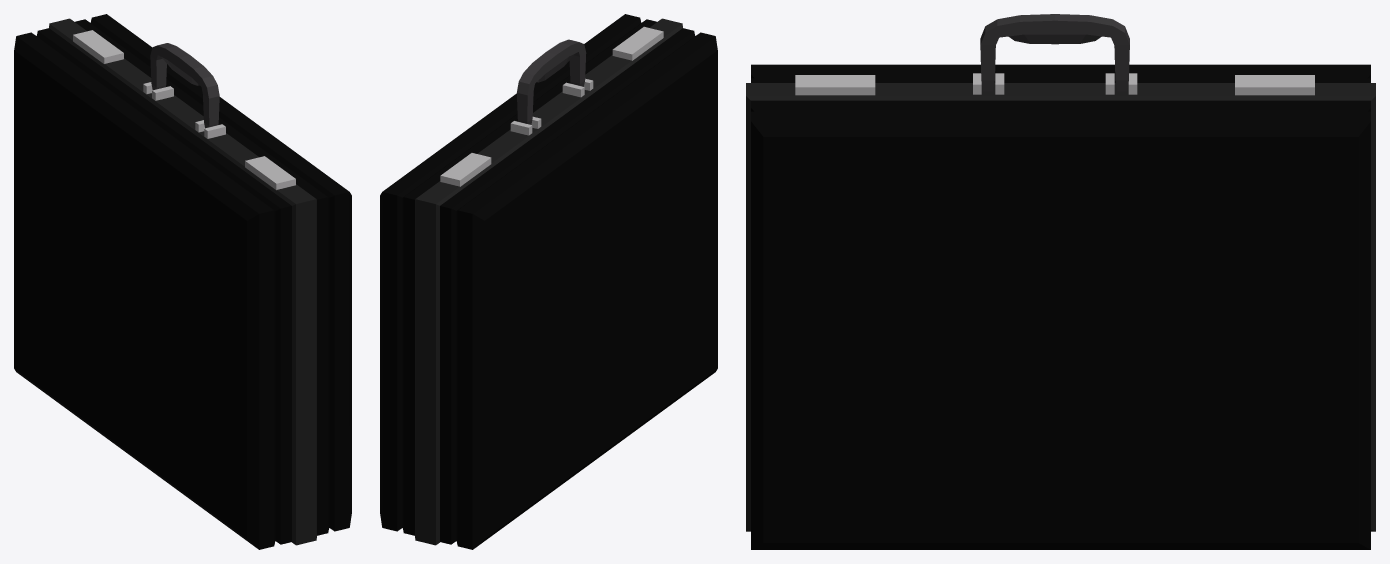
File: SM_Suitcase_01.glb
3 renders of one model, left to right at view 1: azimuth 30°, elevation 25°; view 2: azimuth 150°, elevation 25°; view 3: azimuth 270°, elevation 25°, orthographic. The views are drawn at different scales.
Visible parts, largest first — view 1: SM_Suitcase_01; view 2: SM_Suitcase_01; view 3: SM_Suitcase_01.
Boxes of the visible parts, box(x1,y1,x2,y2) form: SM_Suitcase_01: box(14, 14, 351, 549); SM_Suitcase_01: box(380, 14, 717, 549); SM_Suitcase_01: box(746, 14, 1375, 549).
Size of the model in its own units: 0.1694 by 0.6227 by 0.6922.
Materials: 1 (1 with a texture image).
